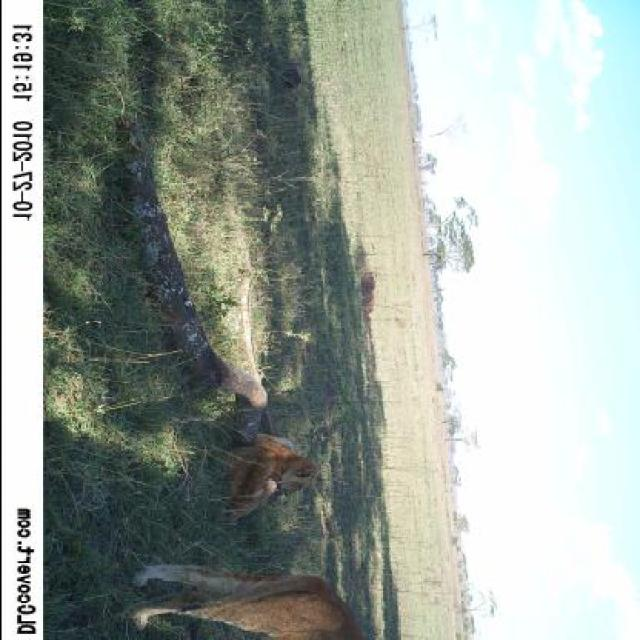Lion: (103, 554, 375, 638), (198, 420, 322, 525)
